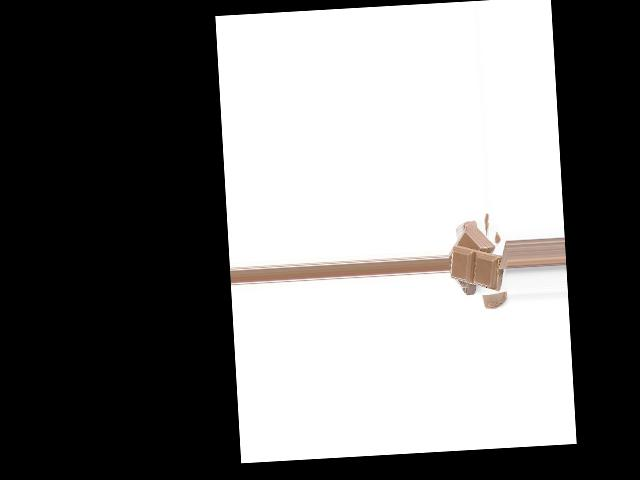chocolate: (450, 242, 503, 291)
